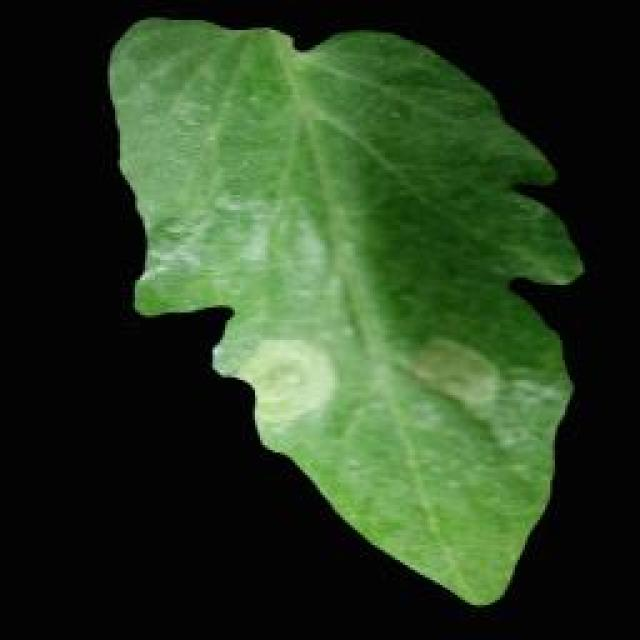Tomato Late Blight: (174, 85, 488, 477)
